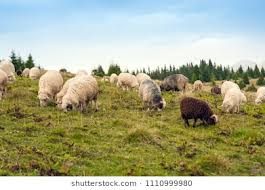sheep: (60, 74, 103, 113), (179, 95, 221, 129), (38, 69, 63, 111), (139, 78, 166, 110), (218, 87, 244, 116), (158, 72, 189, 93), (117, 72, 140, 91), (1, 59, 18, 82), (253, 86, 265, 109), (189, 78, 205, 91), (28, 65, 39, 80), (21, 67, 30, 80), (109, 72, 117, 86)
